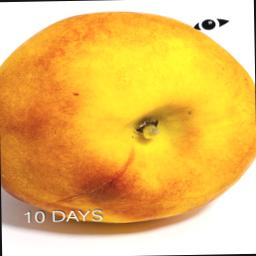Peach Unripe: (0, 9, 256, 228)
